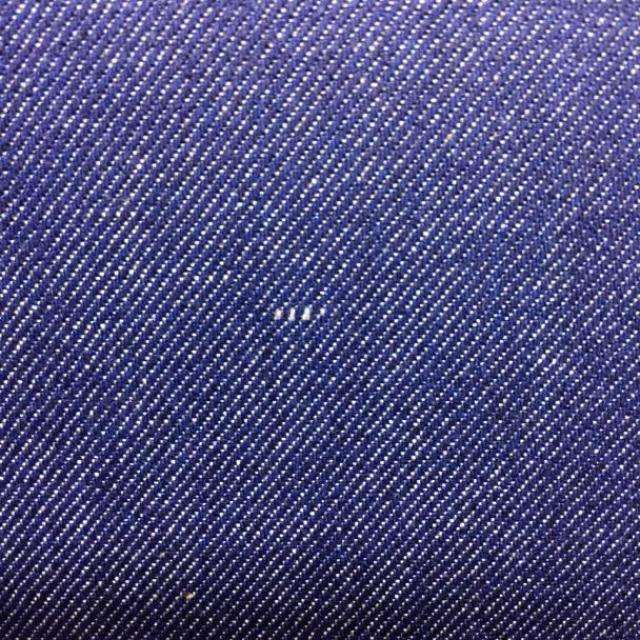Knot: (273, 305, 326, 323)
